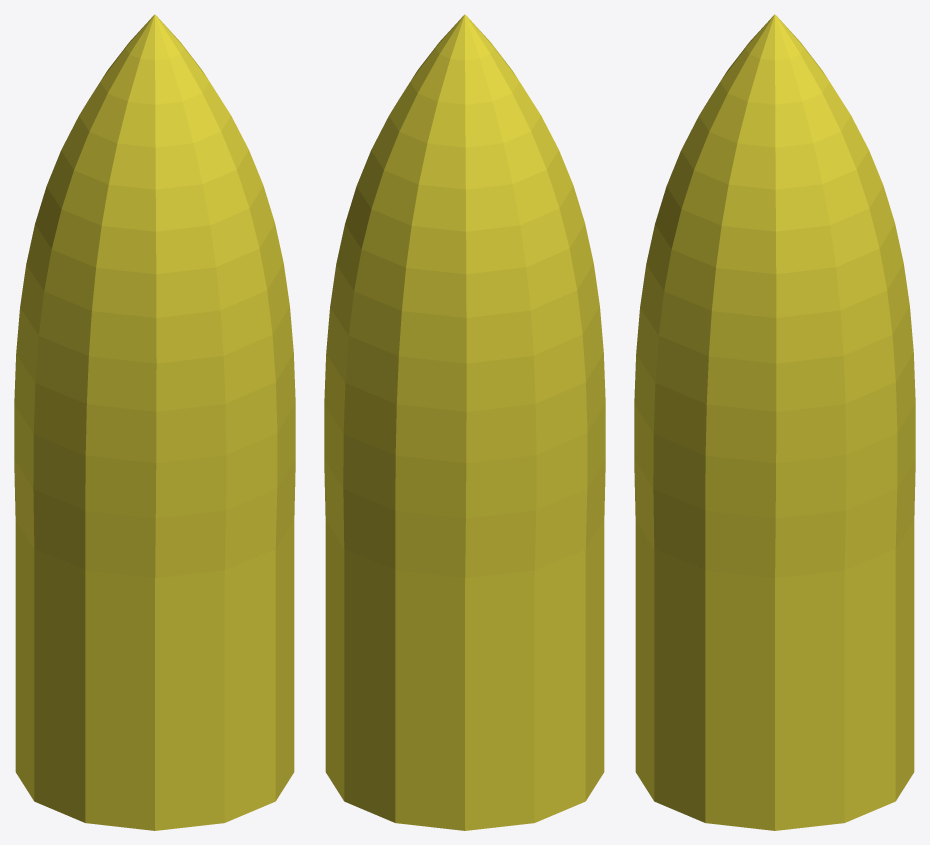
Rendered from shell.glb.
The picture shows the model from 3 angles, left to right: view 1: azimuth 30°, elevation 25°; view 2: azimuth 150°, elevation 25°; view 3: azimuth 270°, elevation 25°; orthographic projection.
Visible parts, largest first — view 1: casing; view 2: casing; view 3: casing.
Boxes of the visible parts, x1=… form: casing: x1=14, y1=14, x2=295, y2=830; casing: x1=324, y1=14, x2=605, y2=830; casing: x1=634, y1=14, x2=915, y2=830.
Bounding box in the file's own units: 2.02 × 6 × 2.02.
